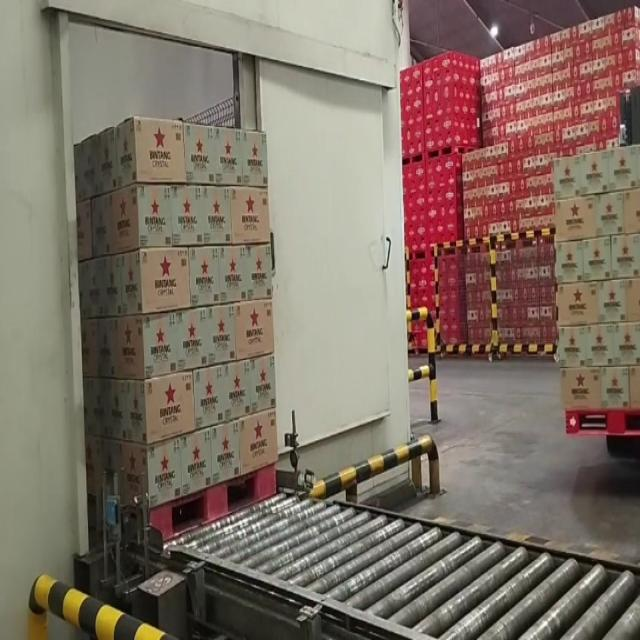pallet: (68, 102, 289, 561), (546, 123, 640, 453)
